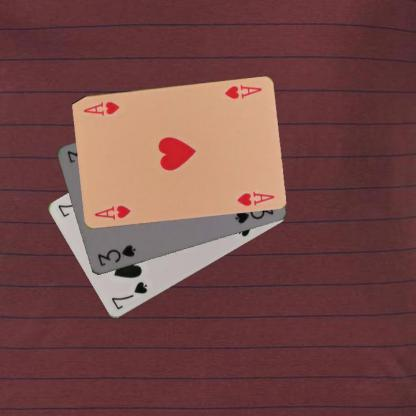3s: (95, 242, 138, 268)
7s: (108, 279, 148, 311)
Ah: (221, 82, 263, 101), (91, 203, 132, 222)
